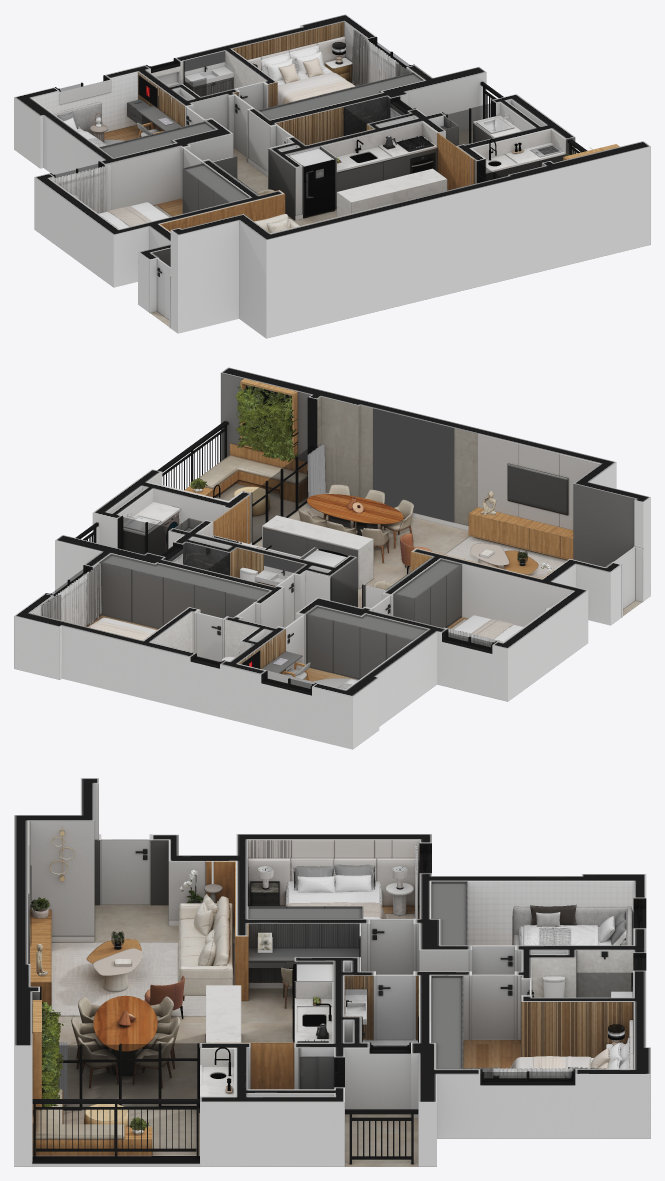
The model's file is web.glb.
3 renders of one model, top to bottom at view 1: azimuth 30°, elevation 25°; view 2: azimuth 150°, elevation 25°; view 3: azimuth 270°, elevation 25°, orthographic. The views are drawn at different scales.
Parts seen in each view (by area): view 1: rendertotexture_0, moveis_2, vidro_7, metais_9, espelho_5; view 2: rendertotexture_0, espelho_5, vidro_7, plantas_8, moveis_2, cortina_1; view 3: rendertotexture_0, moveis_2, vidro_7, plantas_8, metais_9.
Part boxes in pixels (left/top/right/bottom): rendertotexture_0: left=14, top=14, right=650, bottom=338; moveis_2: left=53, top=45, right=355, bottom=233; vidro_7: left=55, top=39, right=500, bottom=182; metais_9: left=350, top=114, right=562, bottom=166; espelho_5: left=184, top=51, right=494, bottom=198; rendertotexture_0: left=14, top=367, right=650, bottom=749; espelho_5: left=157, top=408, right=454, bottom=651; vidro_7: left=52, top=446, right=527, bottom=689; plantas_8: left=190, top=385, right=298, bottom=489; moveis_2: left=88, top=491, right=523, bottom=689; cortina_1: left=307, top=444, right=325, bottom=507; rendertotexture_0: left=14, top=778, right=650, bottom=1166; moveis_2: left=36, top=864, right=633, bottom=1069; vidro_7: left=57, top=900, right=630, bottom=1106; plantas_8: left=30, top=897, right=149, bottom=1130; metais_9: left=210, top=1003, right=331, bottom=1089.
Bounding box in the file's own units: 10.72 × 2.3 × 10.74.
Materials: 9 (4 with a texture image).
